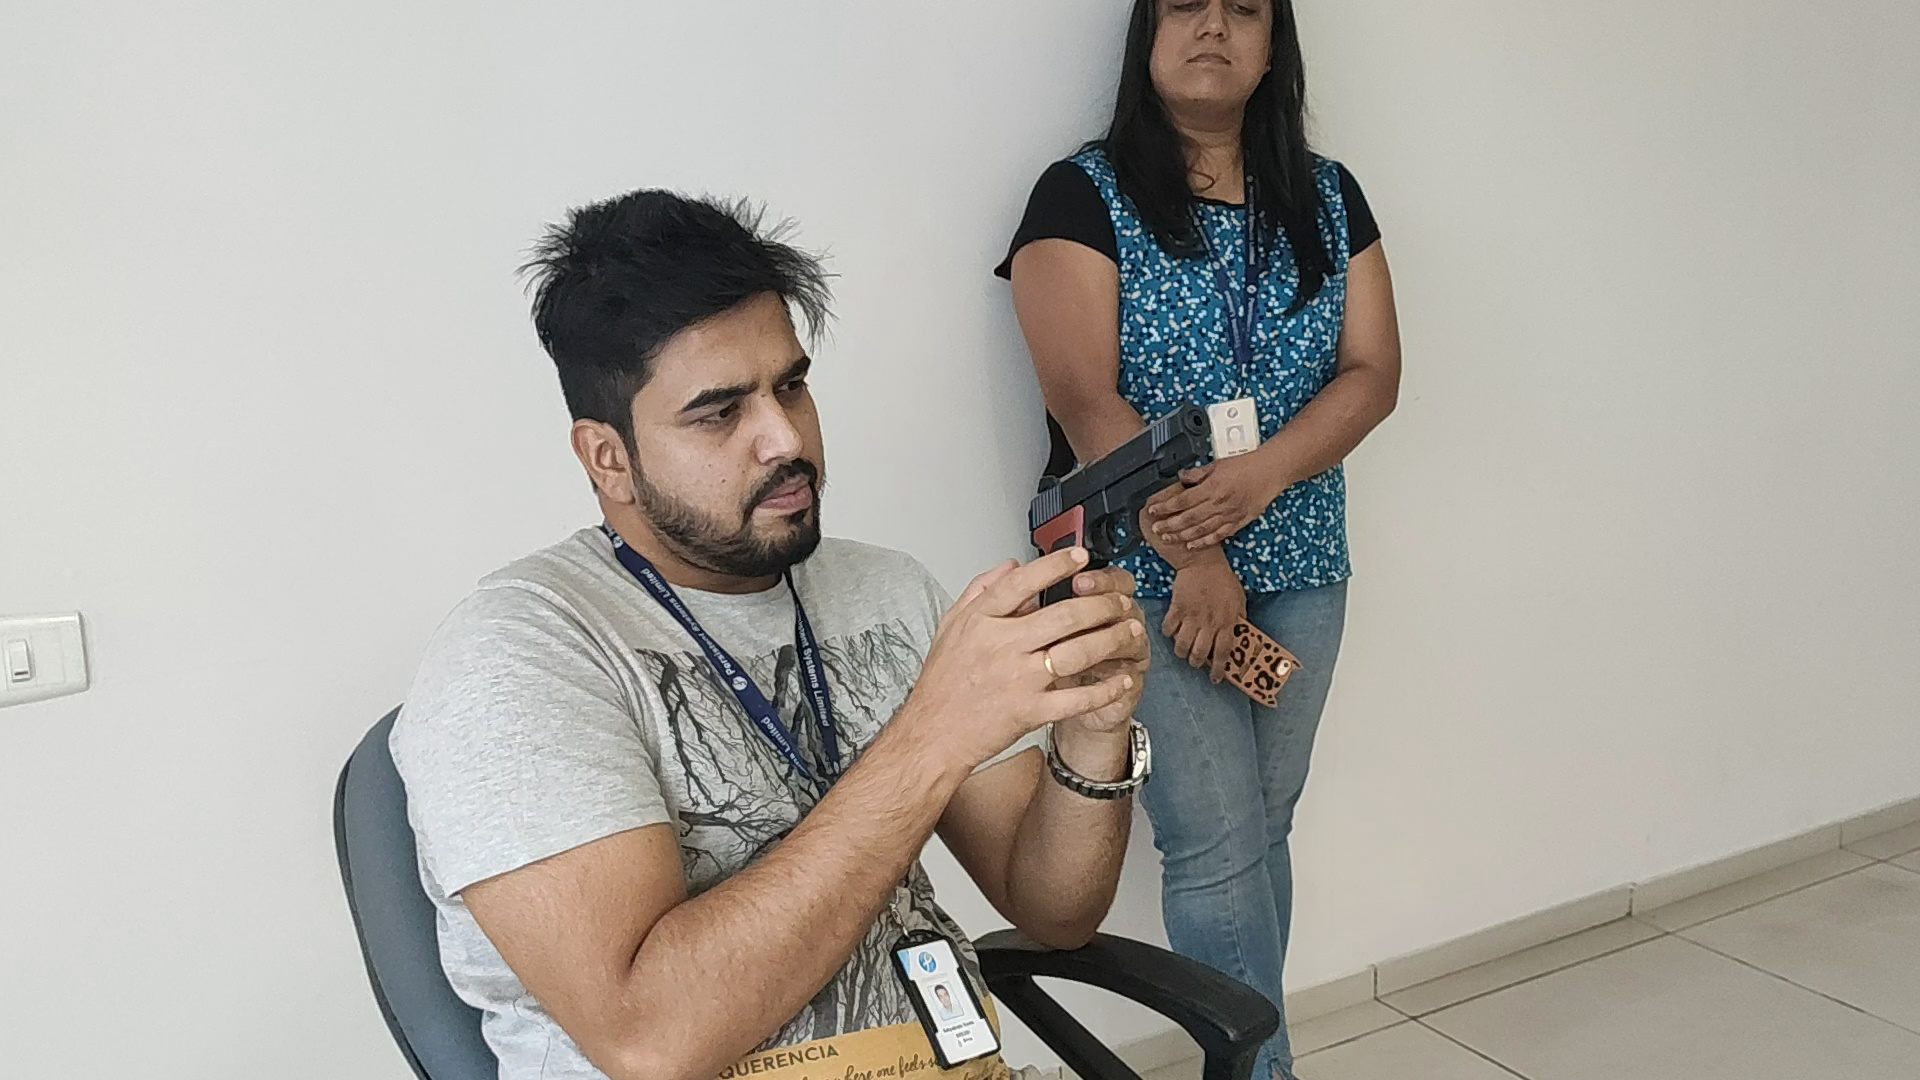gun: (1027, 400, 1211, 545)
